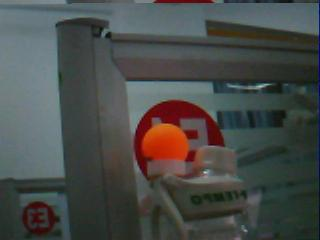oball: (142, 123, 189, 162)
